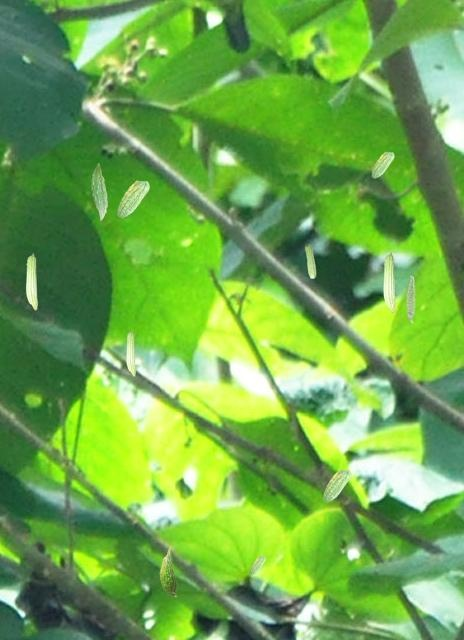ampalaya: (117, 180, 149, 218), (91, 162, 108, 221), (322, 469, 351, 502), (161, 546, 177, 597), (383, 251, 396, 313), (25, 252, 38, 310), (159, 548, 175, 594), (371, 151, 394, 178), (126, 329, 136, 376), (406, 275, 415, 323), (304, 244, 316, 278), (249, 555, 266, 574)
